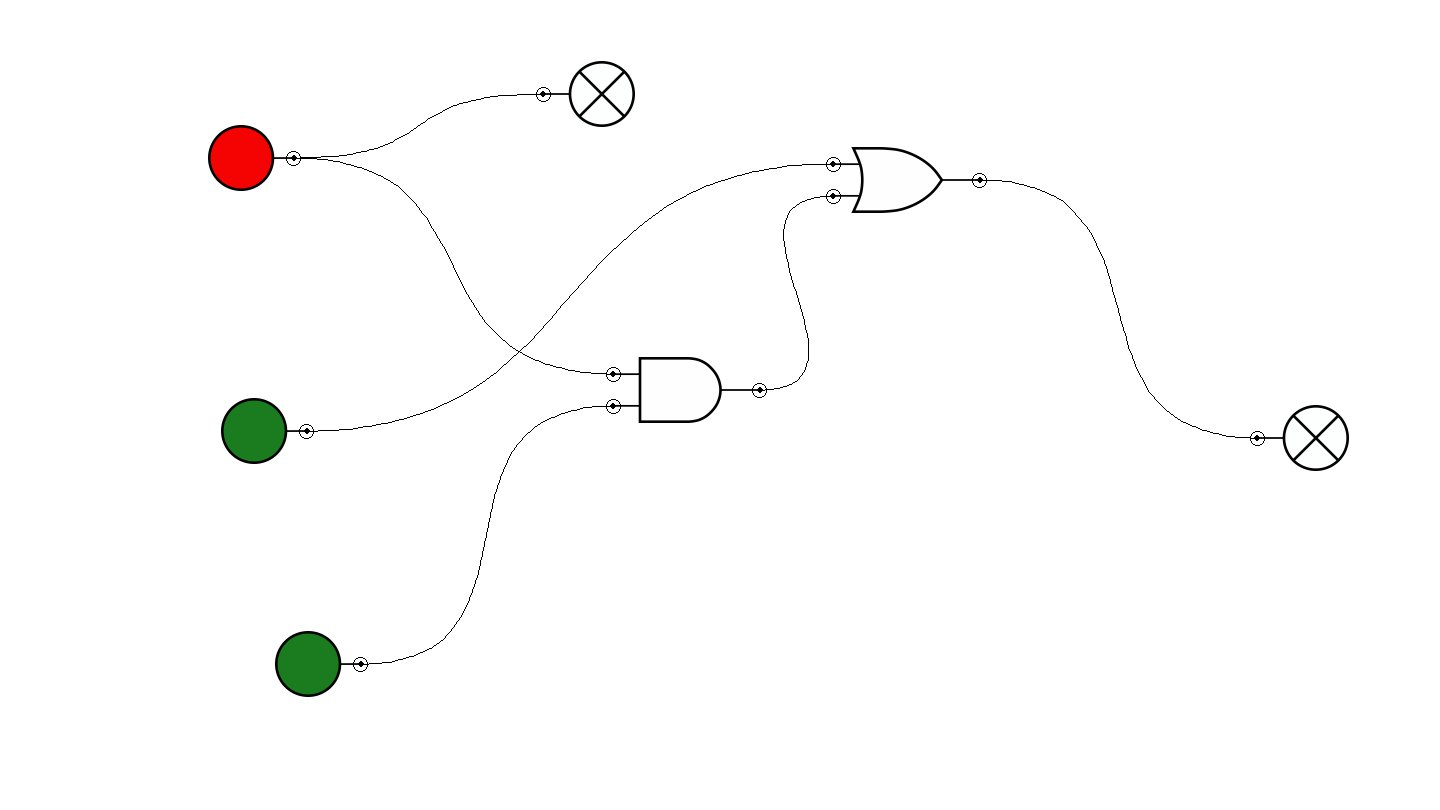and: (606, 357, 767, 423)
bulb: (1250, 405, 1349, 471), (536, 61, 635, 127)
or: (826, 147, 987, 213)
switch_False: (208, 125, 301, 191)
switch_True: (275, 631, 368, 697), (221, 398, 314, 464)
